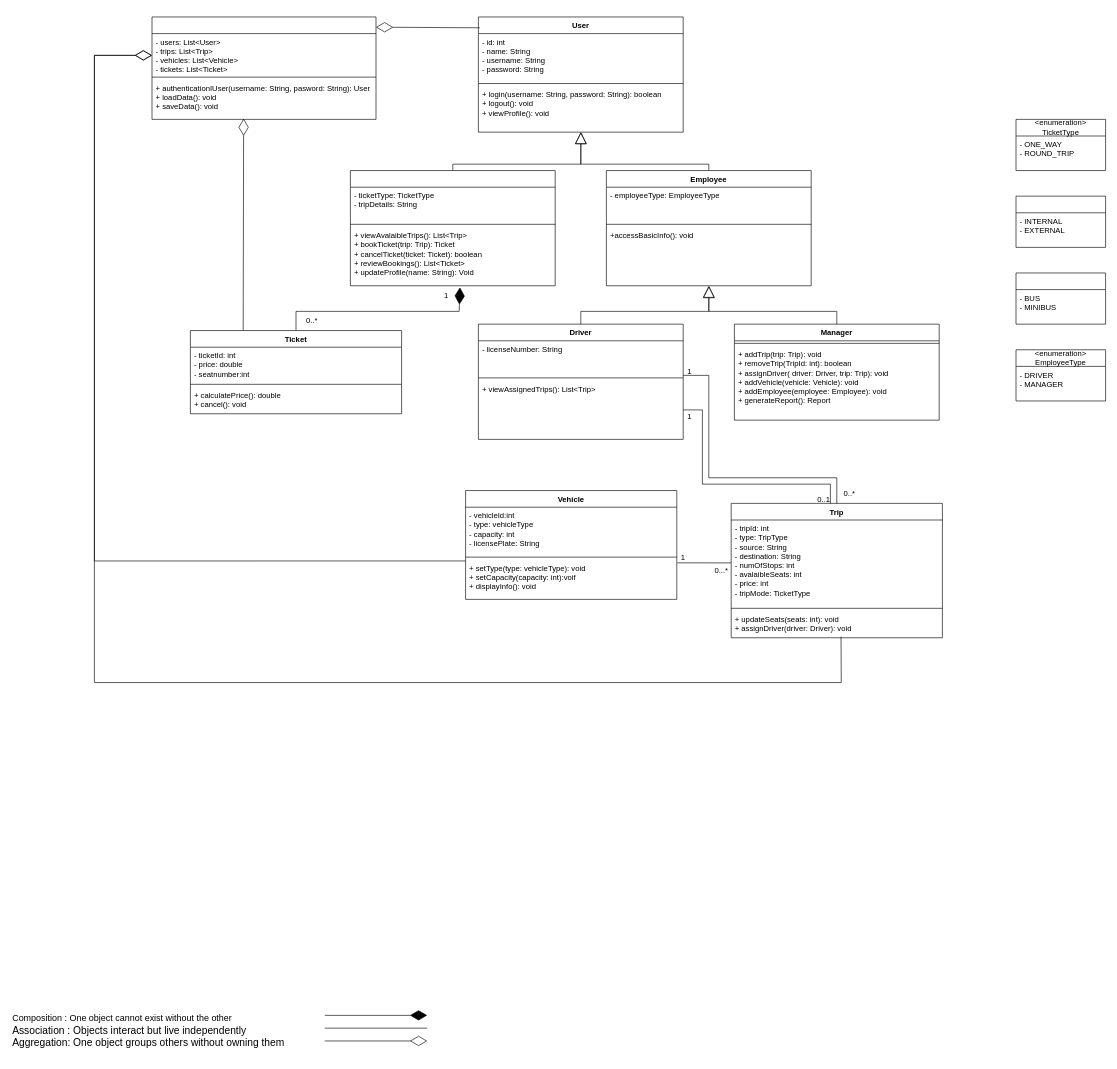
The diagram is 1117 pixels wide and 1069 high, and some of its shapes have lost their labels. The box of each missing label's shape, as (x1, y1, x2, y2) in pixels:
<enumeration> TripType: (1015, 196, 1106, 247)
<enumeration> VehicleType: (1015, 272, 1106, 324)
Passenger: (350, 170, 555, 286)
transportationSystem: (151, 16, 376, 119)
